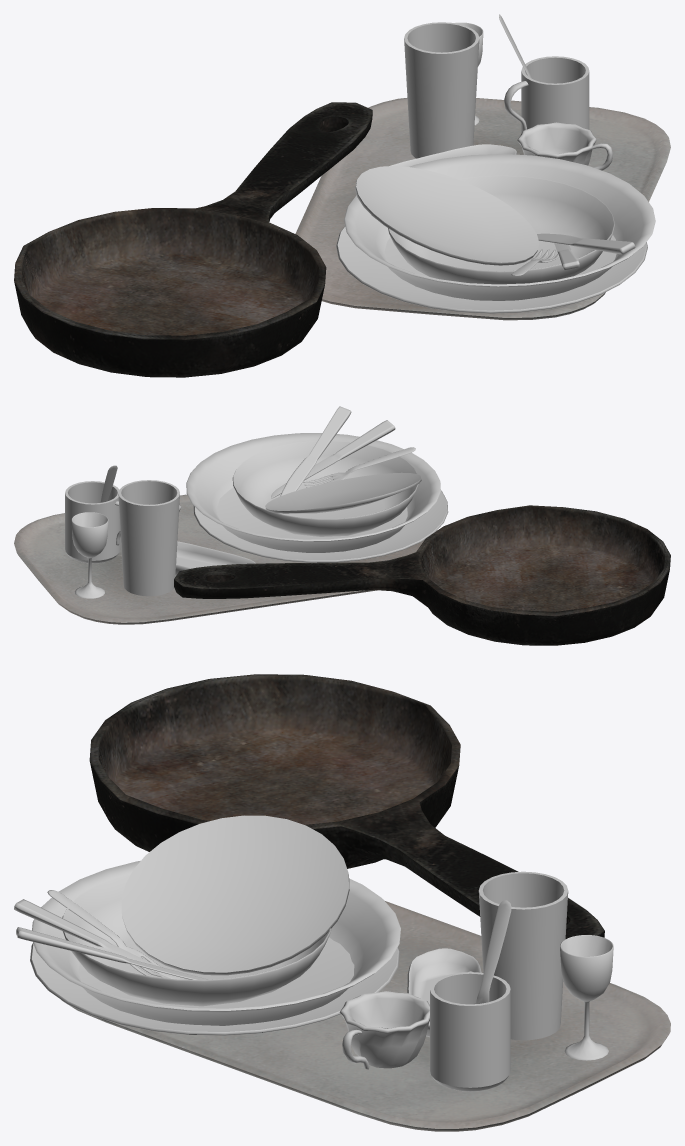
File: cozinha3.fbx
The picture shows the model from 3 angles, top to bottom: view 1: azimuth 30°, elevation 25°; view 2: azimuth 150°, elevation 25°; view 3: azimuth 270°, elevation 25°; orthographic projection. The views are drawn at different scales.
Visible parts, largest first — view 1: SM_Pan_02.001, SM_DishTray_03, SM_Plate_04, SM_Plate_03, SM_Plate_05, SM_TallGlass, SM_Plate_01, SM_Cup, SM_Teacup, SM_Knife_09, SM_Plate_02; view 2: SM_Pan_02.001, SM_DishTray_03, SM_Plate_05, SM_Plate_04, SM_TallGlass, SM_Plate_01, SM_Plate_03, SM_Cup, SM_WineGlass, SM_Knife_09, SM_Plate_02, SM_Knife_10 (+1 smaller); view 3: SM_Pan_02.001, SM_DishTray_03, SM_Plate_03, SM_Plate_04, SM_TallGlass, SM_Plate_01, SM_Plate_05, SM_Cup, SM_Teacup, SM_WineGlass, SM_Plate_02, SM_Knife_10 (+3 smaller).
Part boxes in pixels (left/top/right/bottom): SM_Pan_02.001: left=14, top=102, right=372, bottom=377; SM_DishTray_03: left=295, top=98, right=670, bottom=320; SM_Plate_04: left=344, top=154, right=655, bottom=300; SM_Plate_03: left=355, top=166, right=539, bottom=265; SM_Plate_05: left=388, top=175, right=615, bottom=284; SM_TallGlass: left=404, top=22, right=479, bottom=158; SM_Plate_01: left=336, top=226, right=647, bottom=313; SM_Cup: left=504, top=56, right=589, bottom=132; SM_Teacup: left=517, top=122, right=612, bottom=170; SM_Knife_09: left=537, top=233, right=635, bottom=254; SM_Plate_02: left=389, top=144, right=516, bottom=166; SM_Pan_02.001: left=174, top=505, right=670, bottom=645; SM_DishTray_03: left=14, top=494, right=437, bottom=624; SM_Plate_05: left=232, top=440, right=418, bottom=536; SM_Plate_04: left=186, top=433, right=440, bottom=552; SM_TallGlass: left=118, top=480, right=179, bottom=596; SM_Plate_01: left=193, top=487, right=448, bottom=562; SM_Plate_03: left=265, top=472, right=421, bottom=513; SM_Cup: left=65, top=481, right=120, bottom=563; SM_WineGlass: left=71, top=512, right=108, bottom=598; SM_Knife_09: left=280, top=406, right=351, bottom=496; SM_Plate_02: left=175, top=541, right=255, bottom=575; SM_Knife_10: left=271, top=420, right=395, bottom=498; SM_Pan_02.001: left=89, top=674, right=604, bottom=938; SM_DishTray_03: left=61, top=901, right=670, bottom=1131; SM_Plate_03: left=121, top=815, right=349, bottom=975; SM_Plate_04: left=32, top=860, right=400, bottom=1025; SM_TallGlass: left=478, top=871, right=568, bottom=1040; SM_Plate_01: left=30, top=937, right=399, bottom=1035; SM_Plate_05: left=62, top=874, right=331, bottom=1006; SM_Cup: left=430, top=971, right=510, bottom=1091; SM_Teacup: left=339, top=991, right=429, bottom=1069; SM_WineGlass: left=560, top=935, right=613, bottom=1060; SM_Plate_02: left=407, top=948, right=481, bottom=1037; SM_Knife_10: left=14, top=899, right=185, bottom=979.
Size of the model in its own units: 87.55 by 15.83 by 60.18.
